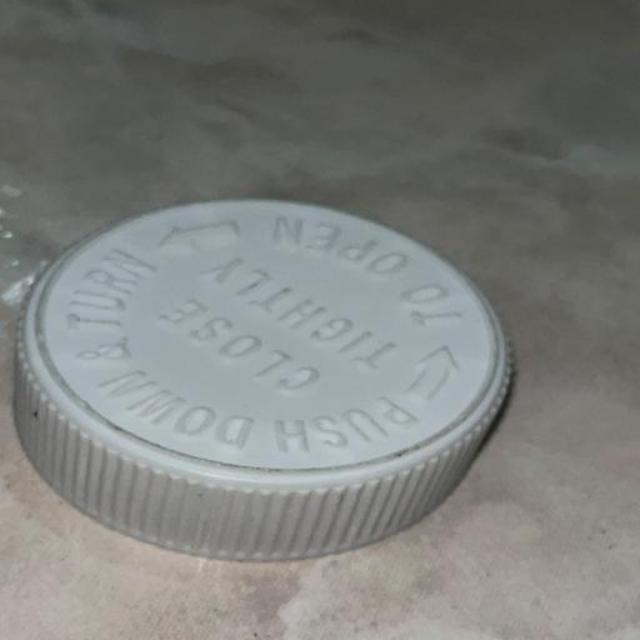HDPE: (15, 179, 550, 606)
